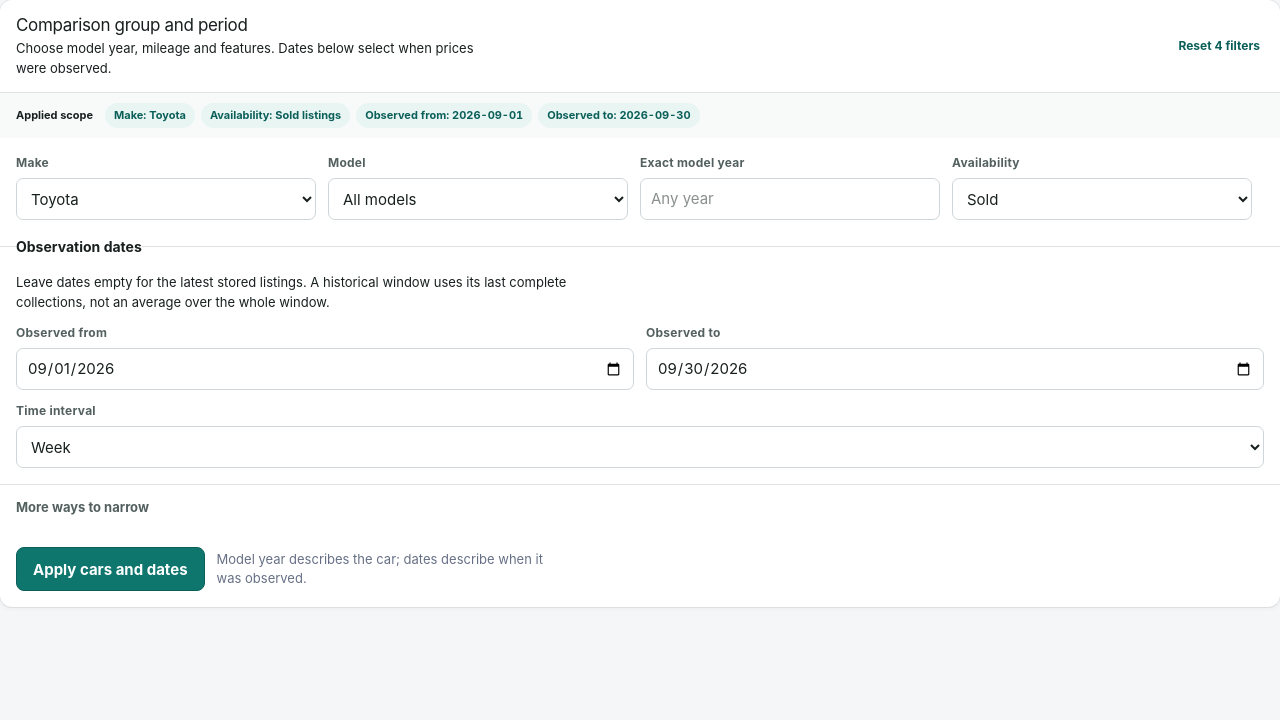
Test: market model options › applies dates within the edited group and returns to that result while preserving the other group
This screenshot has width=1280, height=720.
In the date field named "from": (325, 369) 16,348 -> 634,390, type "2026-10-01"
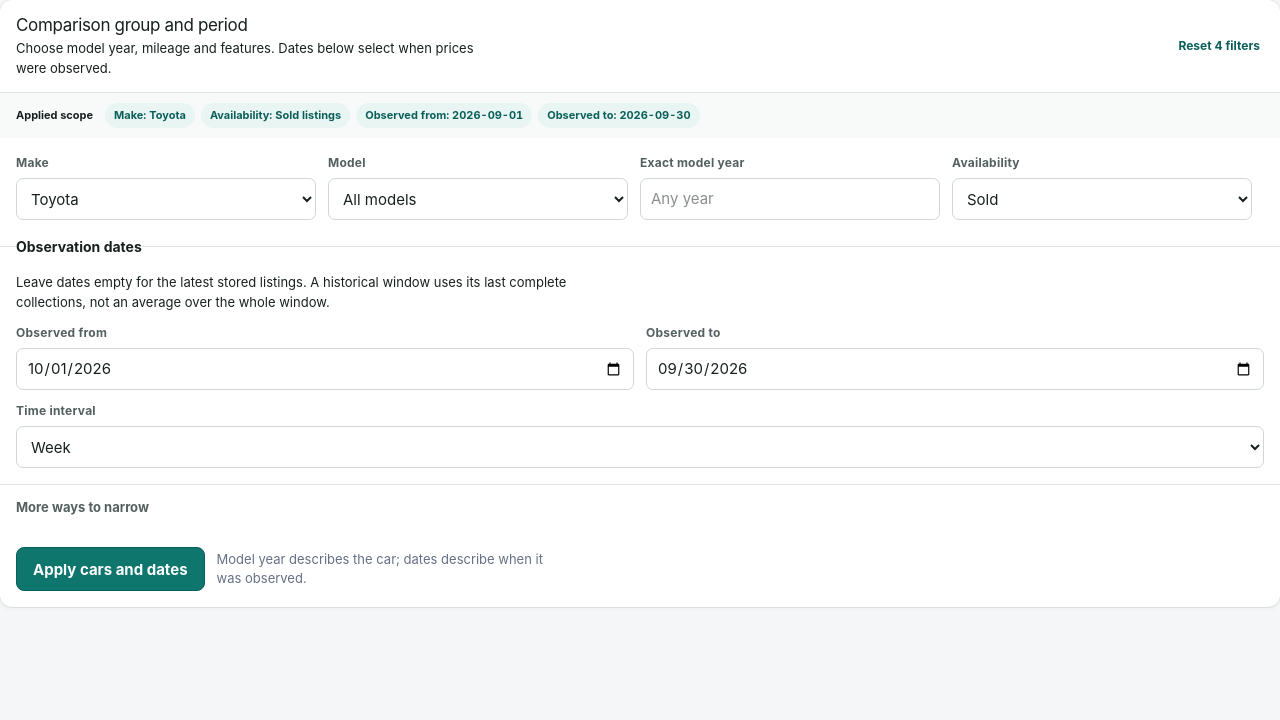
In the date field named "to": (955, 369) 646,348 -> 1264,390, type "2026-10-02"
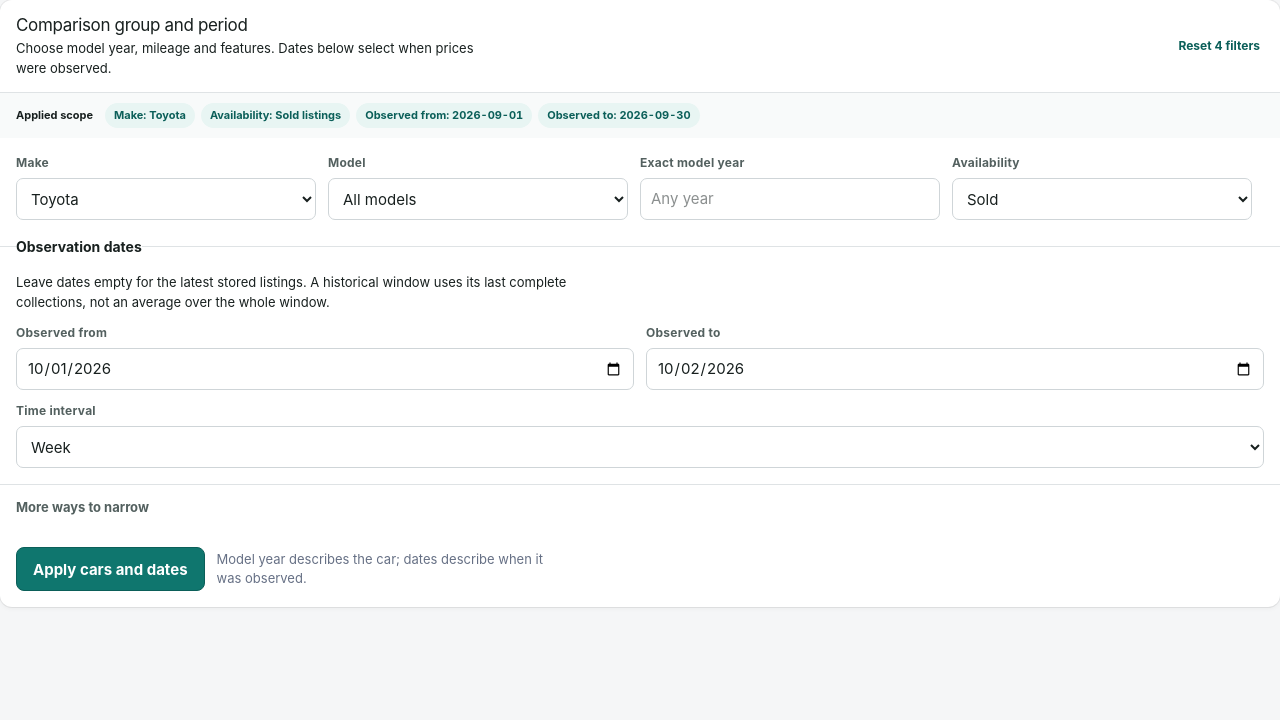
Submit the form
In the date field named "from": (325, 369) 16,348 -> 634,390, type "2026-11-01"
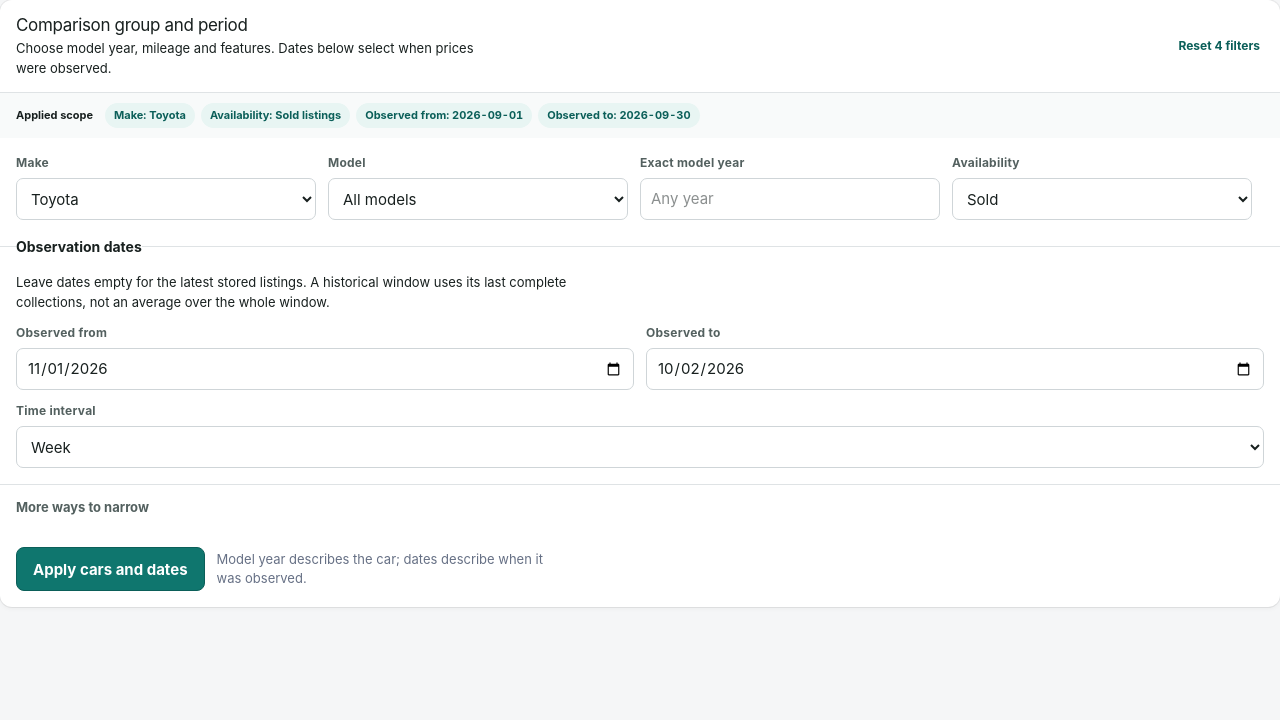
Submit the form
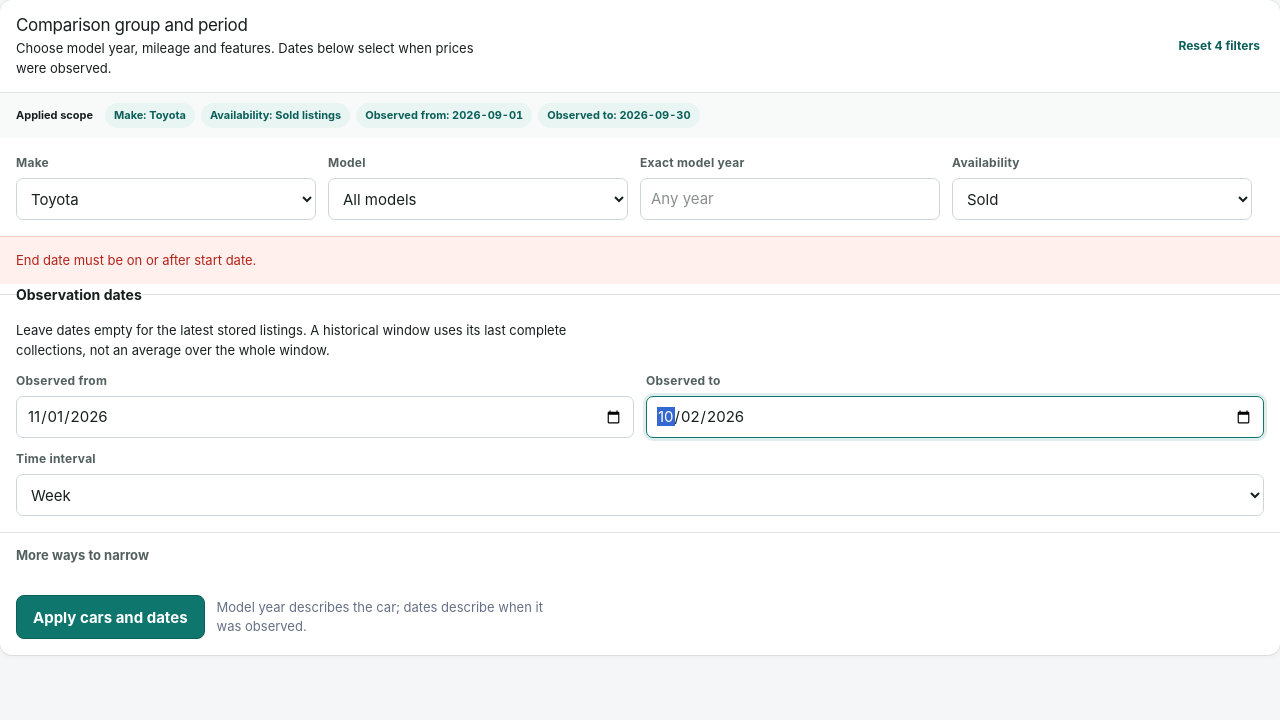
Result: the message "End date must be on or after start date." is shown at 0,236 -> 1279,284
